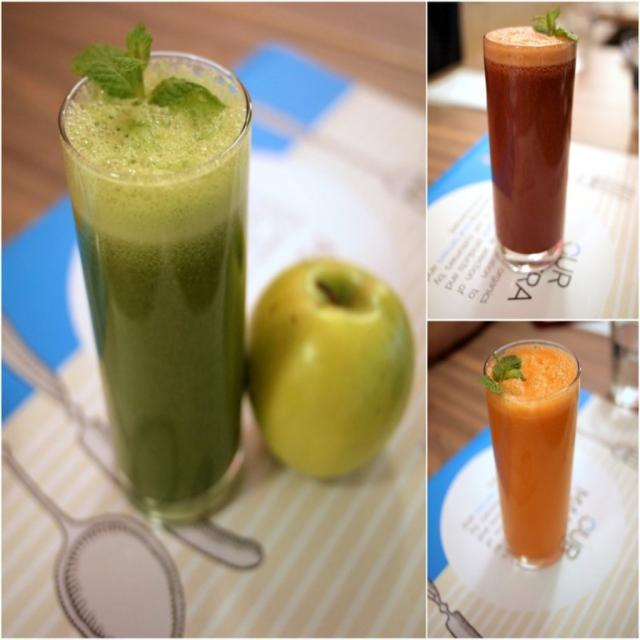Healty Apple: (238, 249, 427, 480)
